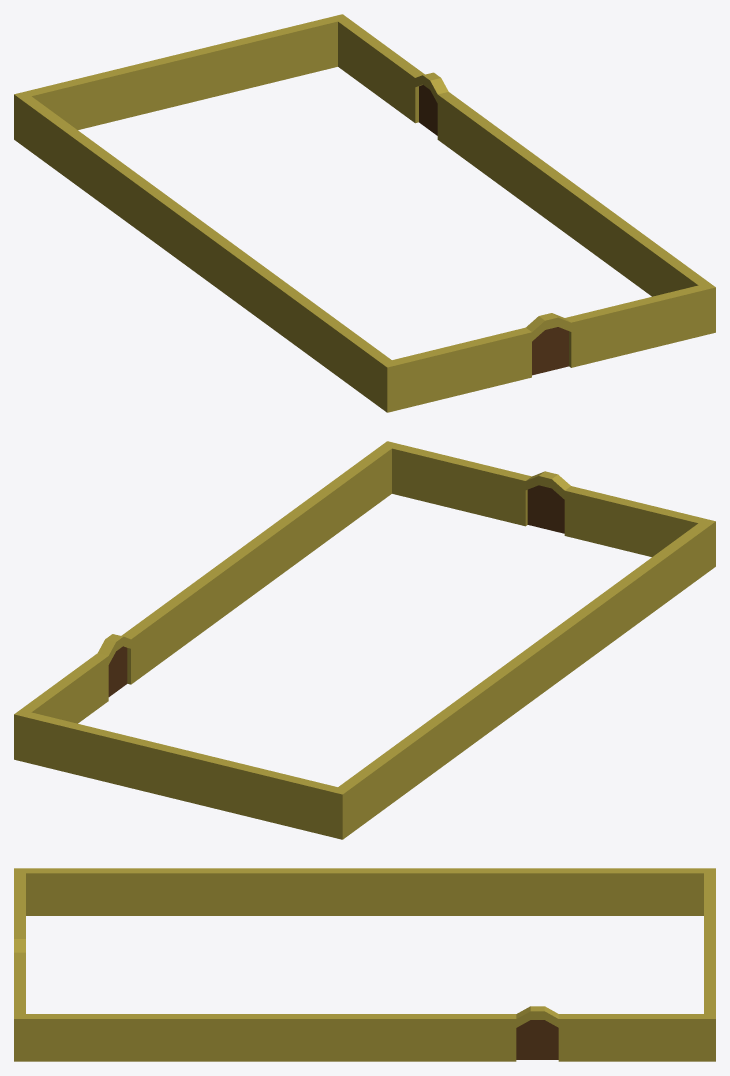
Rendered from Rec_TwoDoorES.fbx.
3 renders of one model, top to bottom at view 1: azimuth 30°, elevation 25°; view 2: azimuth 150°, elevation 25°; view 3: azimuth 270°, elevation 25°, orthographic. The views are drawn at different scales.
Parts seen in each view (by area): view 1: Walls, S_door, E_door; view 2: Walls, S_door, E_door; view 3: Walls, E_door.
Part boxes in pixels (x1,y1,x2,y2): Walls: [14, 14, 715, 412]; S_door: [532, 327, 568, 375]; E_door: [419, 85, 437, 135]; Walls: [14, 441, 715, 839]; S_door: [527, 485, 564, 533]; E_door: [108, 646, 127, 696]; Walls: [14, 868, 715, 1061]; E_door: [516, 1020, 558, 1059].
Bounding box in the file's own units: 3567 × 556 × 7018.
